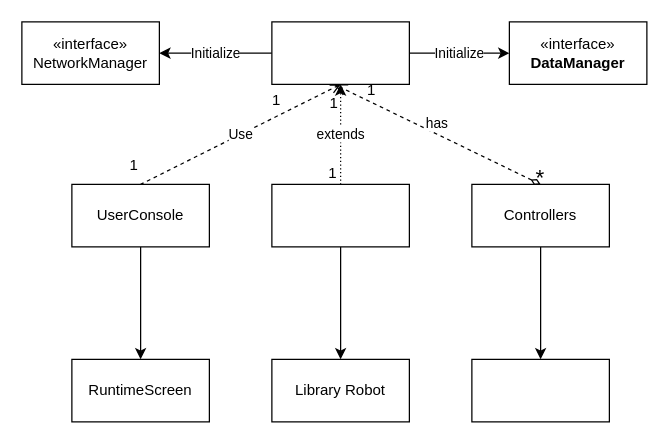
Image size: 669x444. Some labels were removed from this diagram. The shapes that lost their labels are listed below. From the top down, each one's box as (x1, y1, x2, y2) in pixels, then its label:
(271, 21, 409, 84): «interface» V01
(271, 183, 409, 247): Operational Code
(471, 358, 609, 422): Prototype Controller
